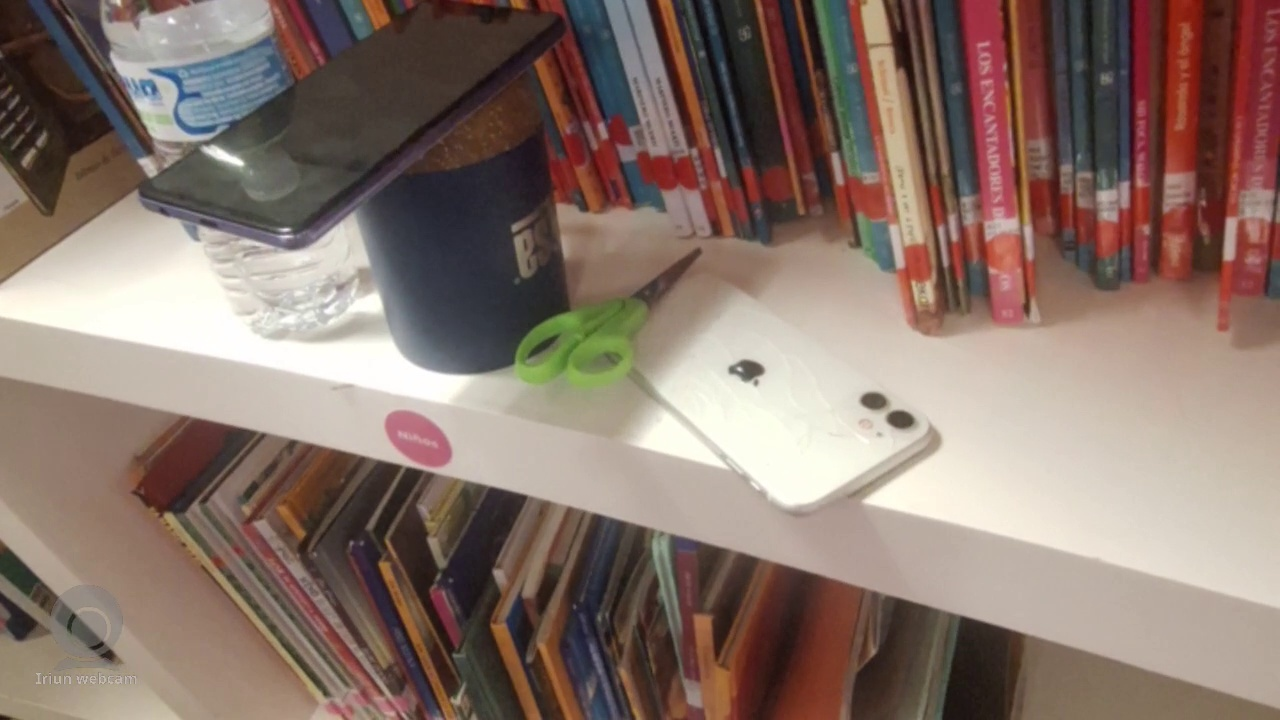taza: (353, 75, 574, 376)
